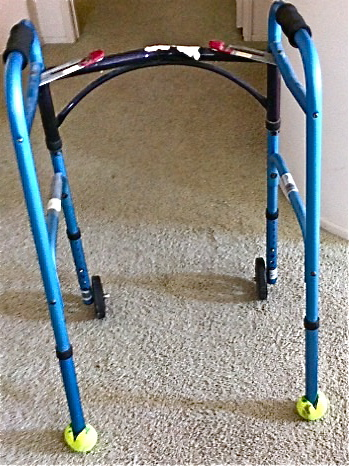tennis_ball: (62, 419, 99, 451), (296, 388, 328, 421)
